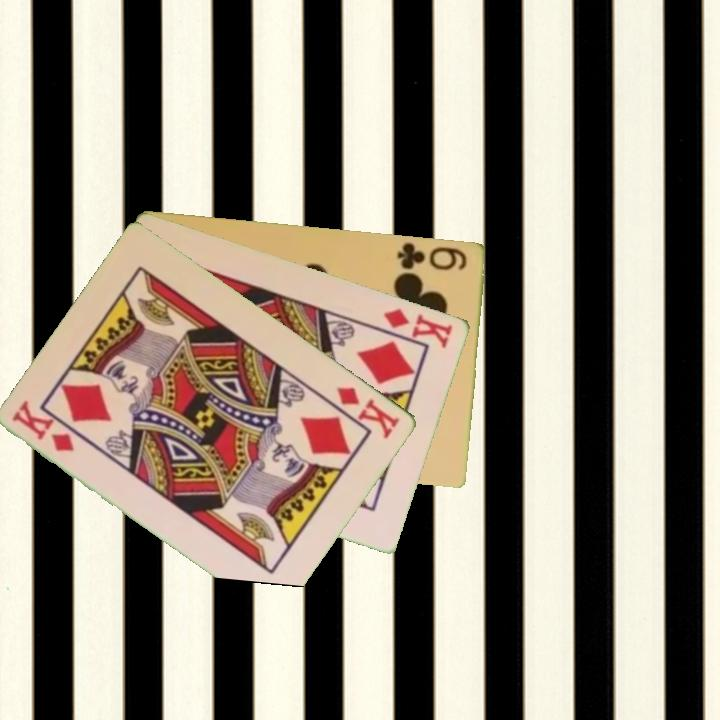6c: (394, 238, 471, 273)
Kd: (333, 383, 404, 441), (9, 397, 79, 455), (372, 304, 456, 351)
